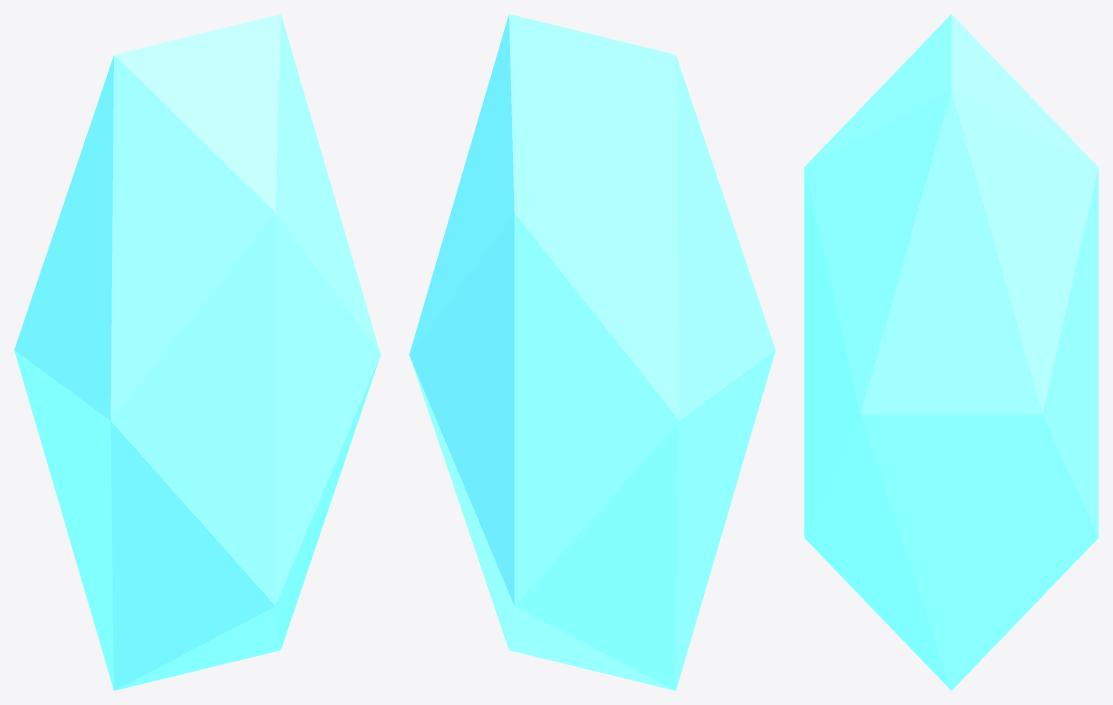
File: deco_ice_1.glb
3 renders of one model, left to right at view 1: azimuth 30°, elevation 25°; view 2: azimuth 150°, elevation 25°; view 3: azimuth 270°, elevation 25°, orthographic. The views are drawn at different scales.
Visible parts, largest first — view 1: deco_ice_1; view 2: deco_ice_1; view 3: deco_ice_1.
Part boxes in pixels (box(x1,y1,x2,y2)): deco_ice_1: box(14, 14, 380, 690); deco_ice_1: box(409, 14, 775, 690); deco_ice_1: box(804, 14, 1098, 690).
Bounding box in the file's own units: 4.08 × 9.19 × 4.08.
